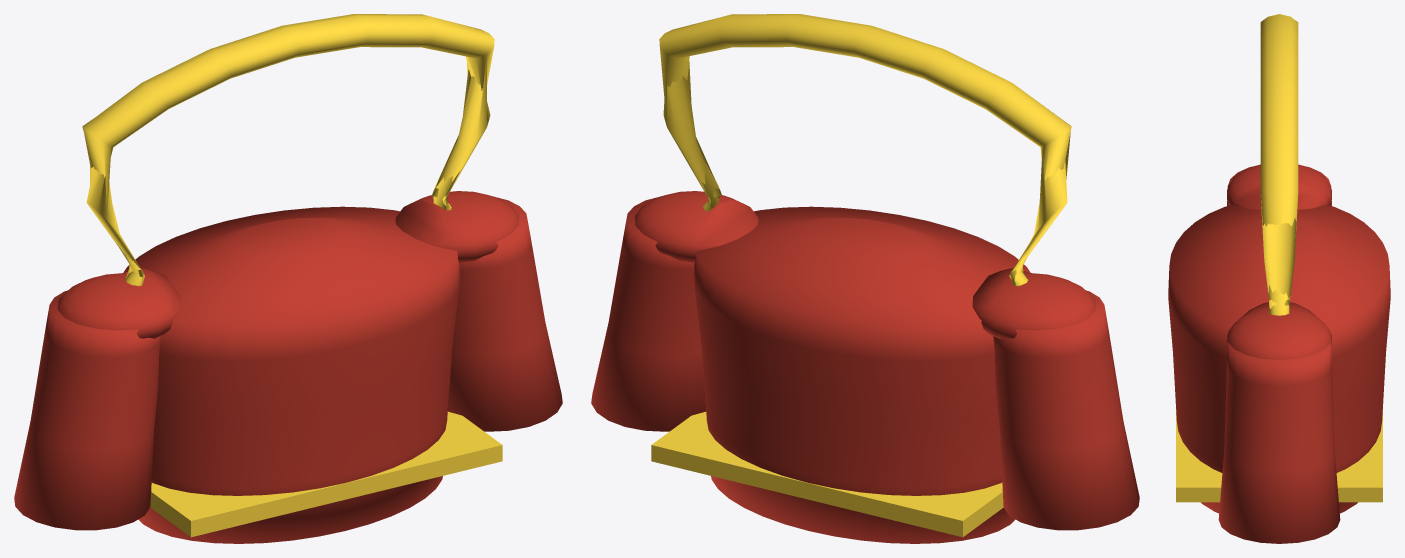
The model's file is top_ancient_1.glb.
3 views of the same model, side by side, from view 1: azimuth 30°, elevation 25°; view 2: azimuth 150°, elevation 25°; view 3: azimuth 270°, elevation 25° (orthographic). The views are drawn at different scales.
Size of the model in its own units: 0.7063 by 0.5865 by 0.2894.
